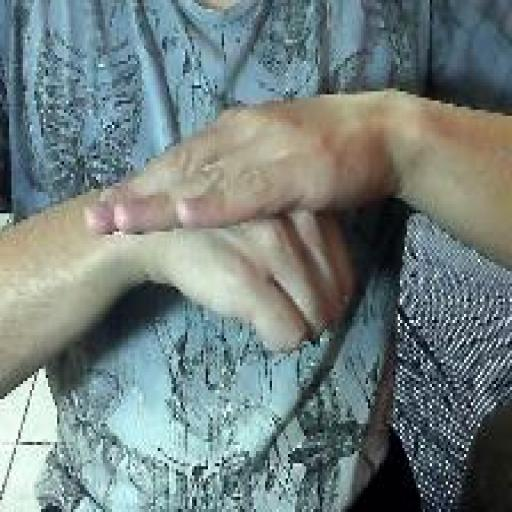Inu -dog-: (82, 90, 359, 358)
